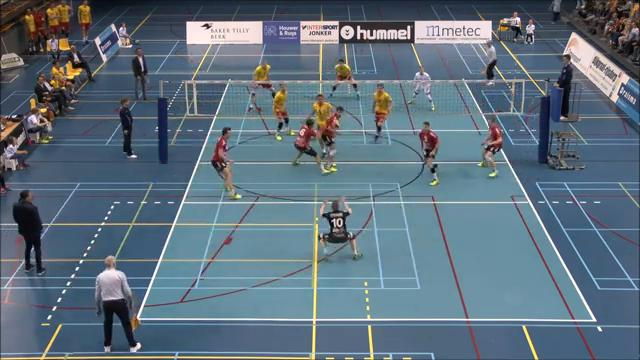difesa: (314, 195, 368, 265)
